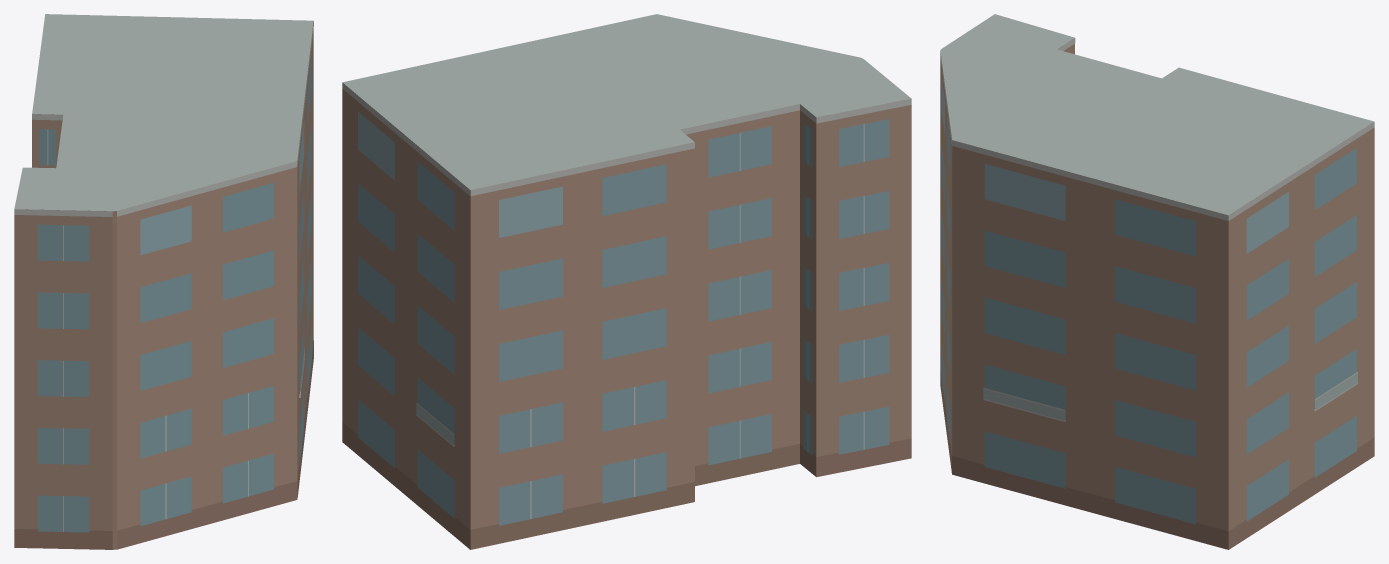
The model's file is survey-upis-32718560.glb.
The picture shows the model from 3 angles, left to right: view 1: azimuth 30°, elevation 25°; view 2: azimuth 150°, elevation 25°; view 3: azimuth 270°, elevation 25°; orthographic projection. The views are drawn at different scales.
Parts seen in each view (by area): view 1: survey-upis-32718560.tmp; view 2: survey-upis-32718560.tmp; view 3: survey-upis-32718560.tmp.
Boxes of the visible parts, x1=… form: survey-upis-32718560.tmp: x1=14, y1=14, x2=313, y2=549; survey-upis-32718560.tmp: x1=342, y1=14, x2=911, y2=549; survey-upis-32718560.tmp: x1=940, y1=14, x2=1374, y2=549.
Size of the model in its own units: 18.36 by 14.22 by 16.74.
